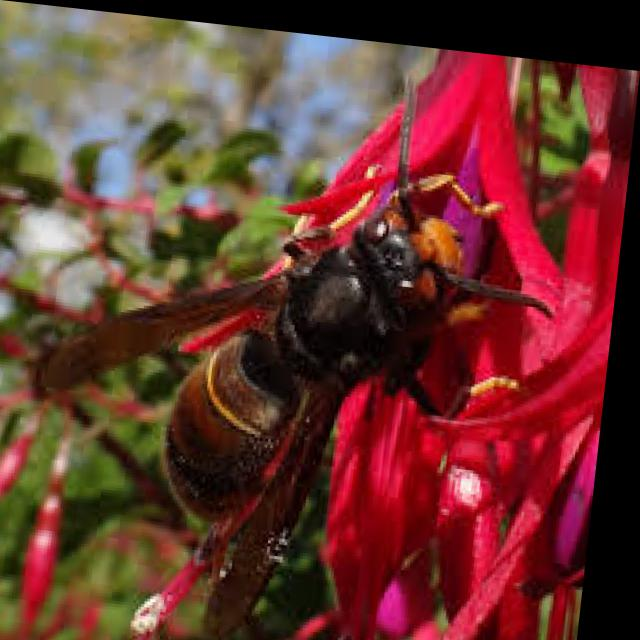Vespa Velutina: (0, 25, 590, 639)
